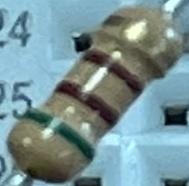Brown: (81, 43, 149, 98), (55, 78, 124, 129)
Green: (22, 106, 96, 164)
Side-Gold: (102, 7, 181, 70)
